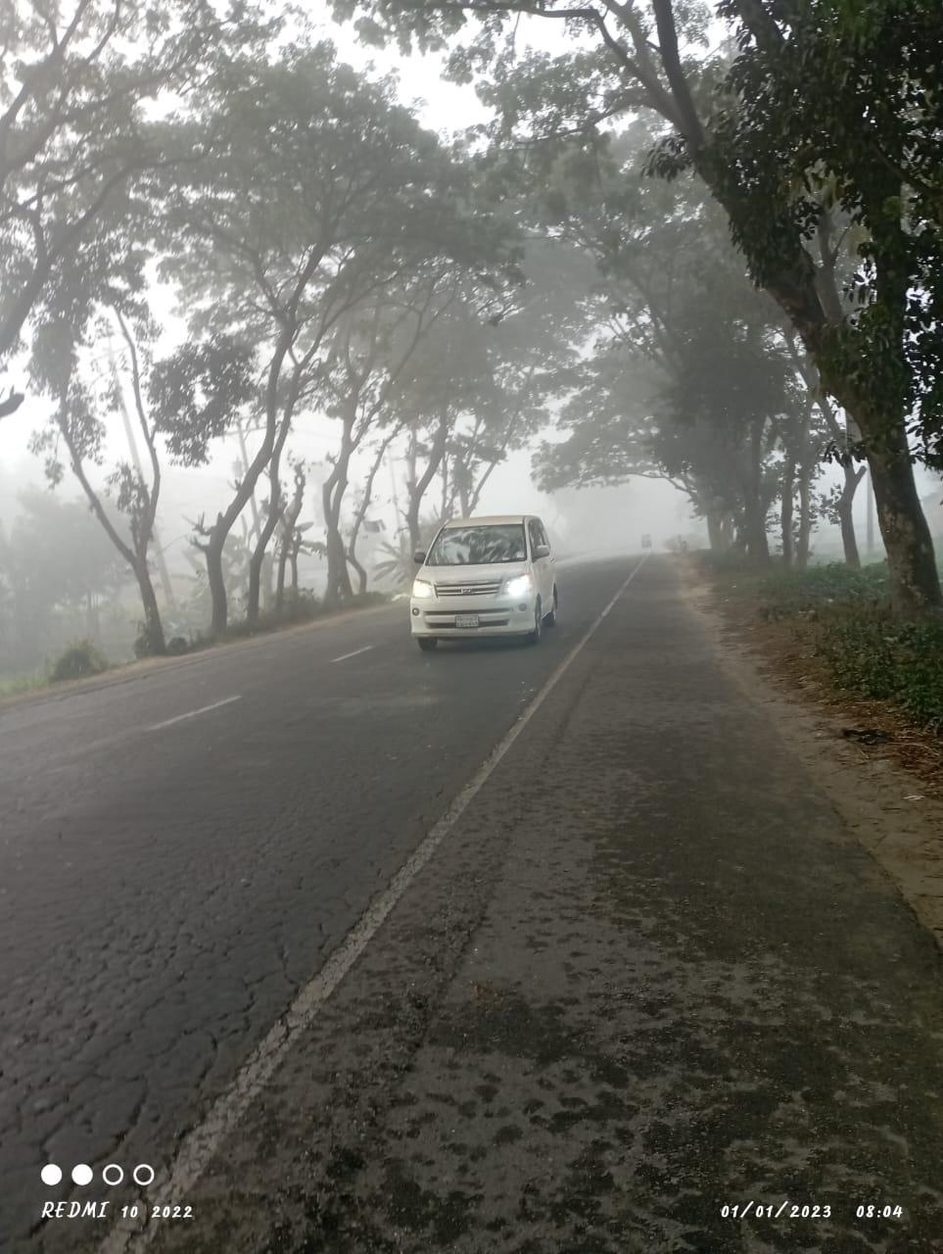Car: (382, 510, 570, 654)
